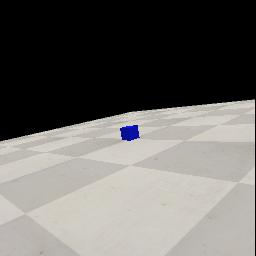box: (120, 125, 140, 141)
